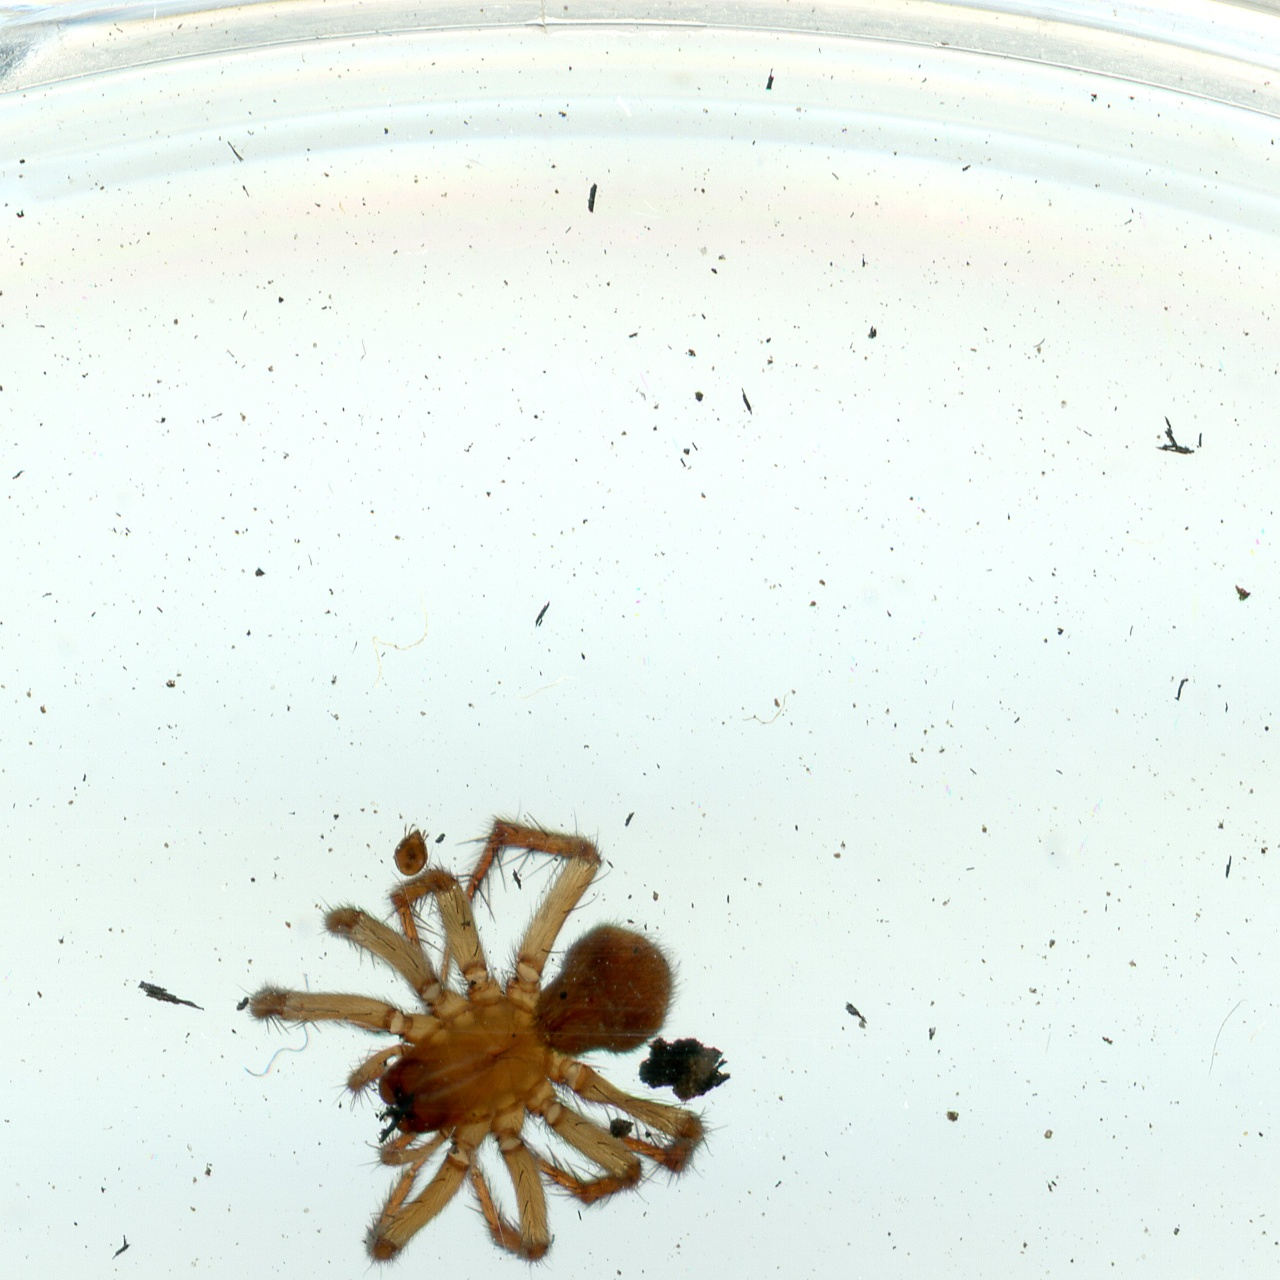arthropod: (229, 795, 718, 1280)
